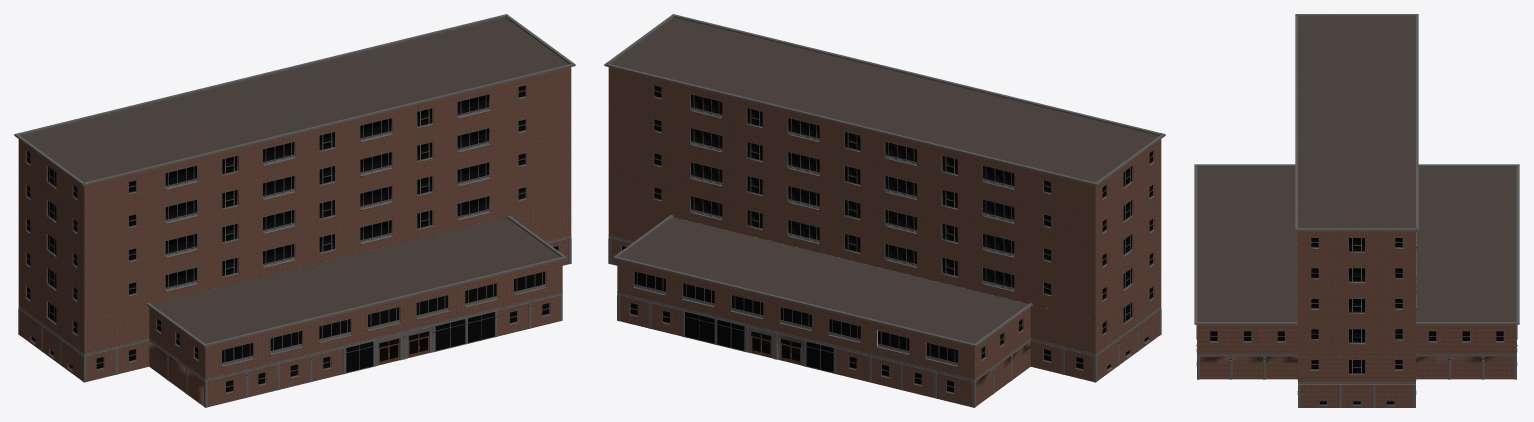
File: building_3.fbx
3 renders of one model, left to right at view 1: azimuth 30°, elevation 25°; view 2: azimuth 150°, elevation 25°; view 3: azimuth 270°, elevation 25°, orthographic. The views are drawn at different scales.
Visible parts, largest first — view 1: building_3_middle, building_3_roof_high, building_3_roof_low, building_3_middle_bottom, building_3_bottom; view 2: building_3_middle, building_3_roof_high, building_3_roof_low, building_3_middle_bottom, building_3_bottom; view 3: building_3_roof_low, building_3_roof_high, building_3_middle, building_3_middle_bottom, building_3_bottom.
Part boxes in pixels (x1,y1,x2,y2): building_3_middle: (18,67,571,319); building_3_roof_high: (14,14,575,185); building_3_roof_low: (146,215,566,347); building_3_middle_bottom: (18,201,571,379); building_3_bottom: (18,235,571,407); building_3_middle: (608,67,1161,319); building_3_roof_high: (604,14,1165,185); building_3_roof_low: (613,215,1033,347); building_3_middle_bottom: (608,201,1161,379); building_3_bottom: (608,235,1161,407); building_3_roof_low: (1194,164,1519,324); building_3_roof_high: (1295,14,1418,231); building_3_middle: (1297,231,1416,351); building_3_middle_bottom: (1196,324,1517,382); building_3_bottom: (1196,339,1517,407).
Size of the model in its own units: 9100 by 3530 by 5800.
